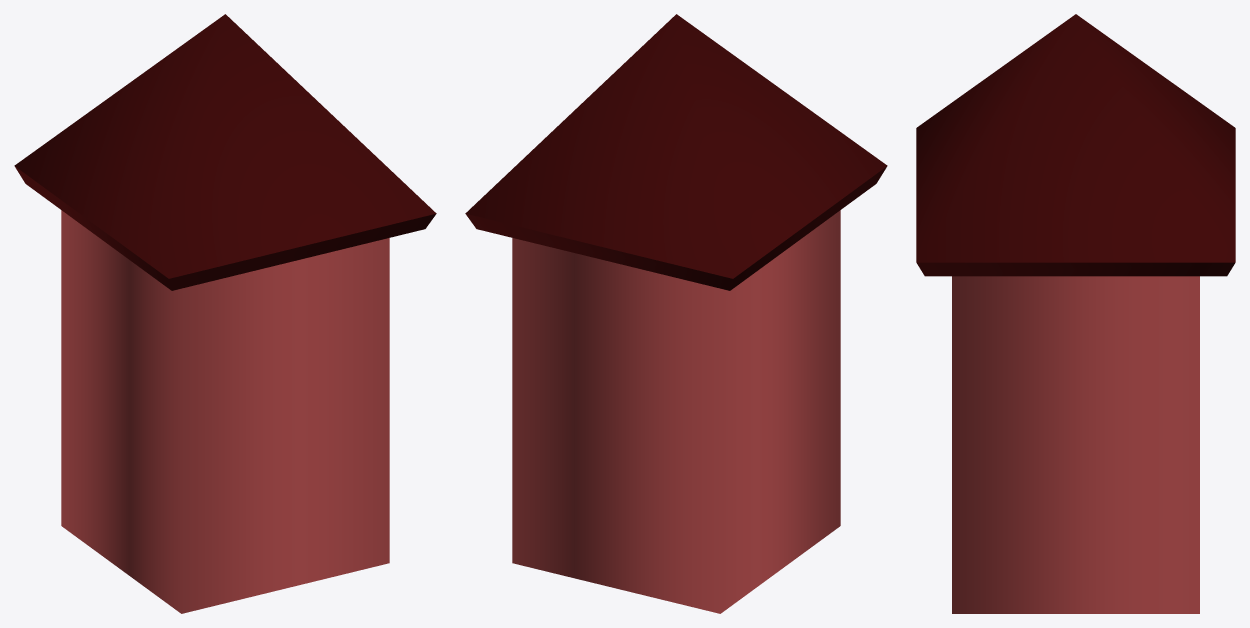
File: village_tower_A.FBX
3 renders of one model, left to right at view 1: azimuth 30°, elevation 25°; view 2: azimuth 150°, elevation 25°; view 3: azimuth 270°, elevation 25°, orthographic. The views are drawn at different scales.
Parts seen in each view (by area): view 1: Murs_005; view 2: Murs_005; view 3: Murs_005.
Part boxes in pixels (x1,y1,x2,y2): Murs_005: [14, 14, 436, 613]; Murs_005: [465, 14, 887, 613]; Murs_005: [916, 14, 1235, 613].
Size of the model in its own units: 1029 by 1949 by 1029.
